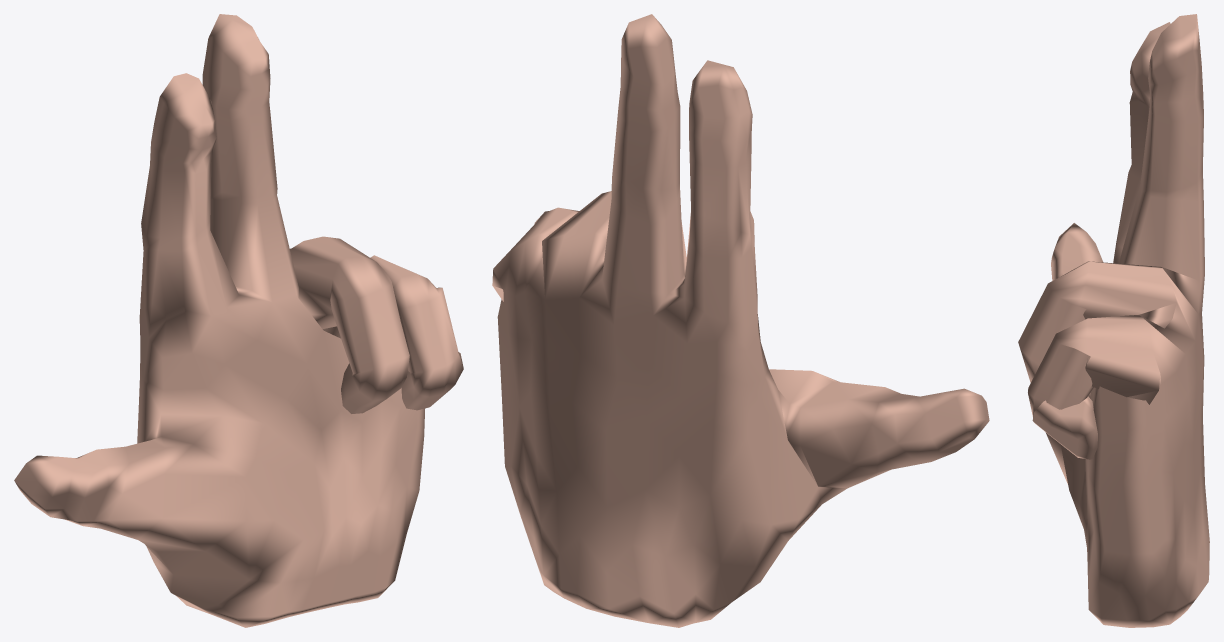
File: U_COM_POLEGAR.obj
3 views of the same model, side by side, from view 1: azimuth 30°, elevation 25°; view 2: azimuth 150°, elevation 25°; view 3: azimuth 270°, elevation 25° (orthographic). The views are drawn at different scales.
Parts seen in each view (by area): view 1: mao_dir polySurface1; view 2: mao_dir polySurface1; view 3: mao_dir polySurface1.
Boxes of the visible parts, x1,y1,x2,y2 form: mao_dir polySurface1: (14,14,463,627); mao_dir polySurface1: (492,14,989,627); mao_dir polySurface1: (1018,14,1209,627).
Bounding box in the file's own units: 191 × 243 × 75.39.
